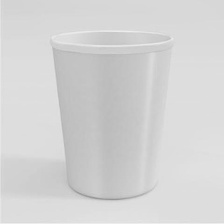glass: (44, 22, 189, 212)
